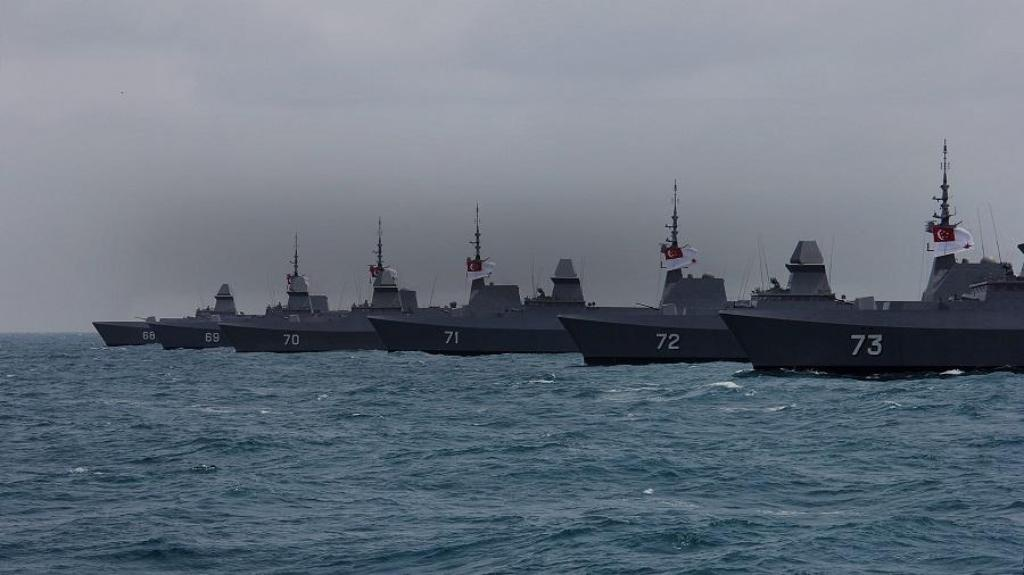Warship: (722, 136, 1024, 376), (561, 183, 835, 363), (363, 198, 607, 362), (222, 214, 434, 350), (144, 233, 332, 357), (82, 249, 232, 352)
